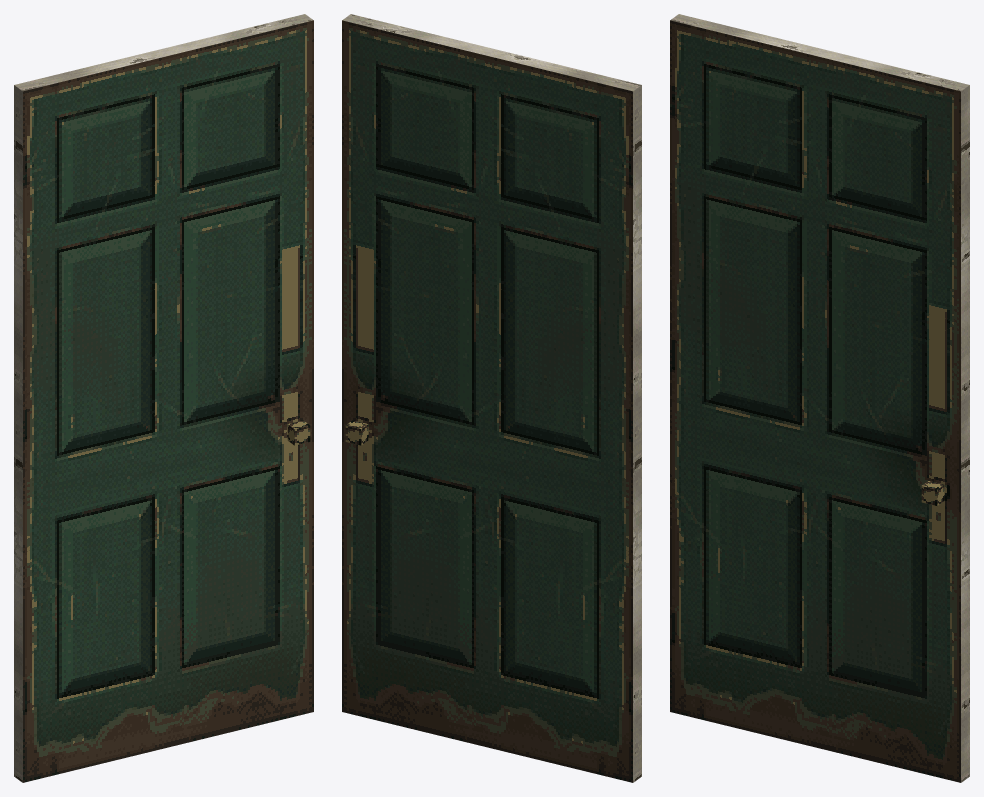
Rendered from house_door.glb.
3 views of the same model, side by side, from view 1: azimuth 30°, elevation 25°; view 2: azimuth 150°, elevation 25°; view 3: azimuth 330°, elevation 25° (orthographic).
Parts seen in each view (by area): view 1: house_door; view 2: house_door; view 3: house_door.
Part boxes in pixels (left/top/right/bottom): house_door: left=14, top=14, right=313, bottom=782; house_door: left=342, top=14, right=641, bottom=782; house_door: left=670, top=14, right=969, bottom=782.
Size of the model in its own units: 0.96 by 2.18 by 0.166.
Materials: 2 (2 with a texture image).
